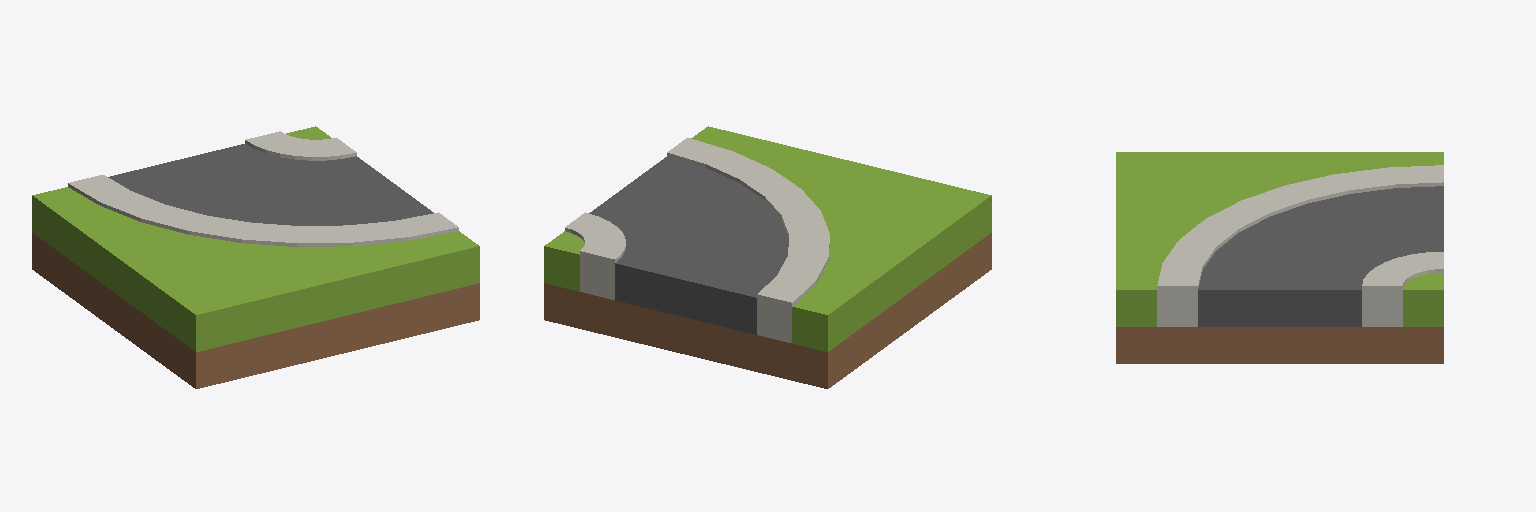
3 views of the same model, side by side, from view 1: azimuth 30°, elevation 25°; view 2: azimuth 150°, elevation 25°; view 3: azimuth 270°, elevation 25° (orthographic).
Size of the model in its own units: 8 by 2.1 by 8.
1 materials, 1 textured.